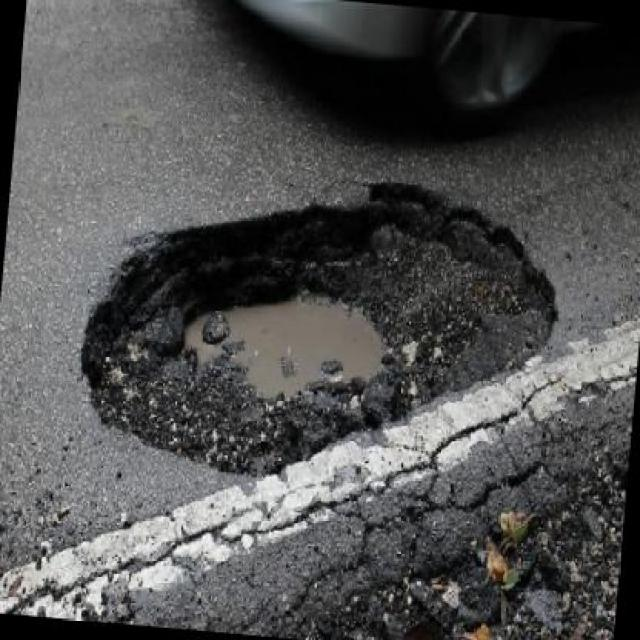pothole1: (70, 148, 573, 507)
